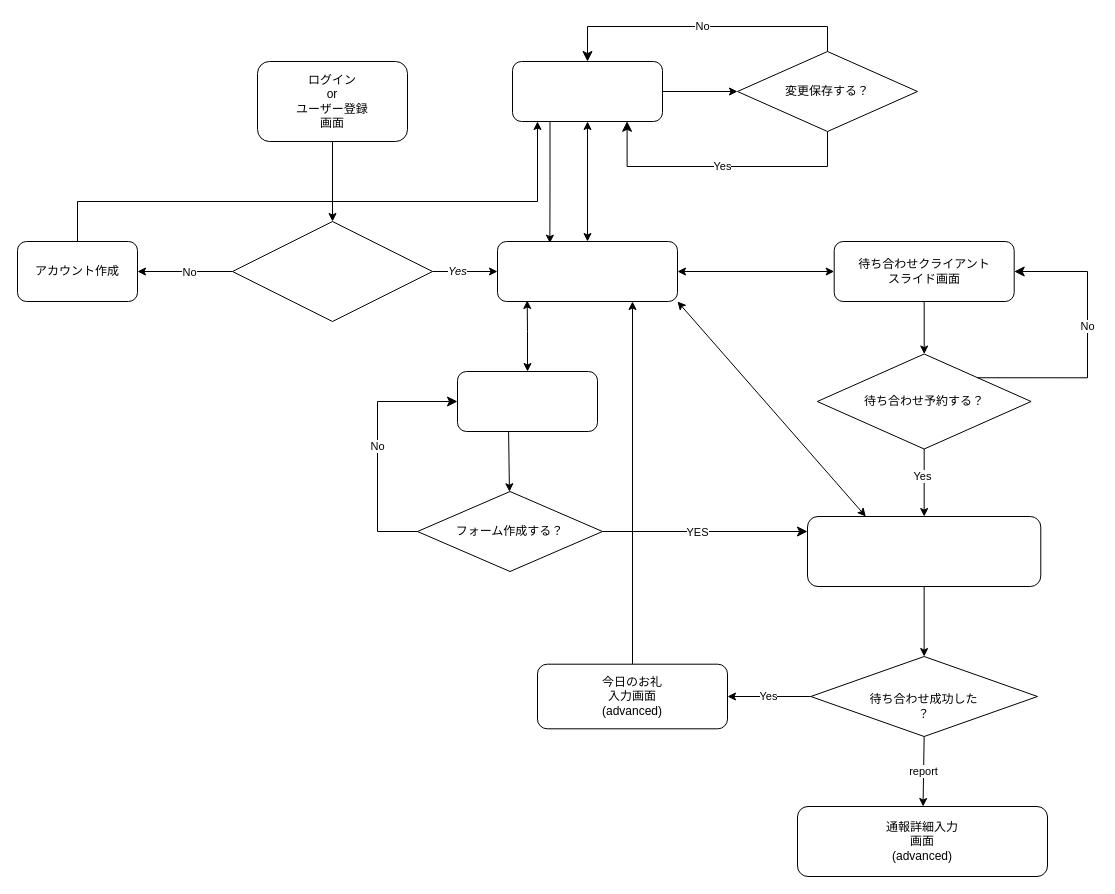
This 1115x894 diagram has some shape labels left out. Each missing label, with the centre of its shape:
アカウント持ってる？: pixel 332 271
プロフィール編集: pixel 587 91
待ち合わせホスト画面: pixel 527 401
待ち合わせ一覧画面: pixel 587 271
待ち合わせ場所 待ち合わせ時間確認 画面: pixel 923 551
